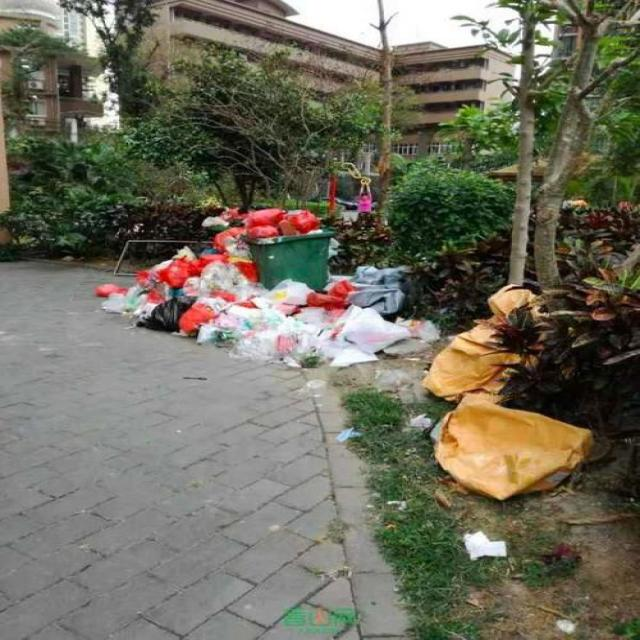garbage: (87, 206, 438, 366), (406, 283, 598, 558)
overflow: (244, 206, 333, 292)
